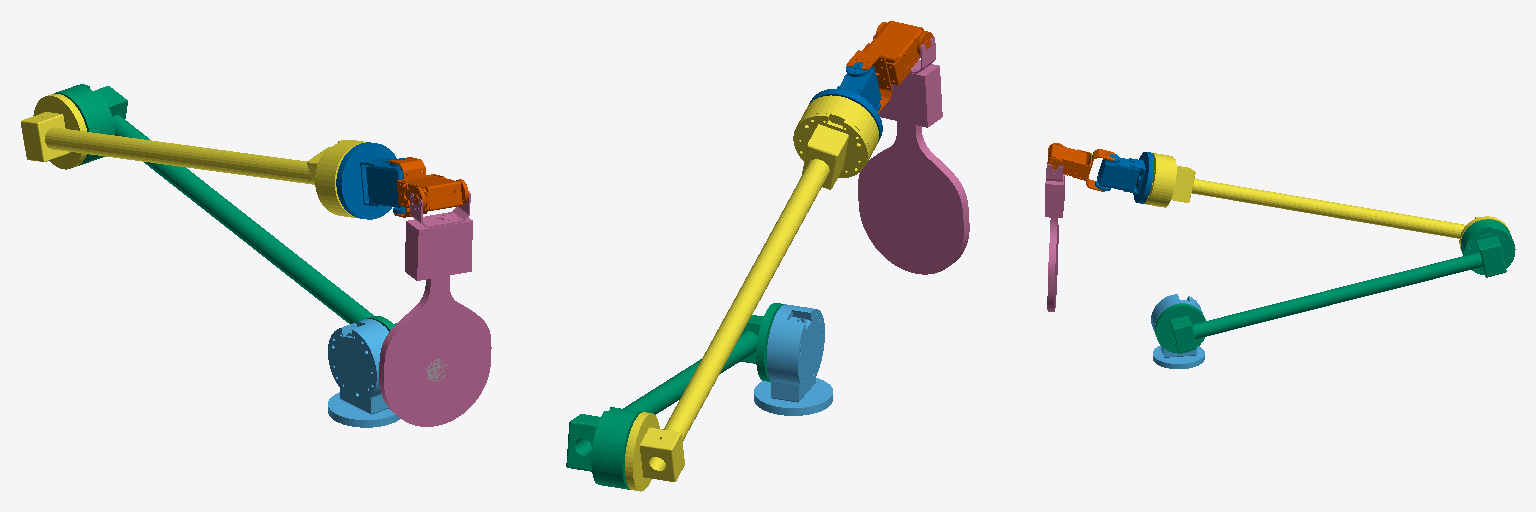
robot.urdf — tennis_player_bot:
<?xml version="1.0" ?>
<robot name="tennis_player_bot">

<material name="silver">
  <color rgba="0.700 0.700 0.700 1.000"/>
</material>

<link name="base_link">
  <inertial>
    <origin xyz="0.0032512986429543357 0.00020816639070417385 0.020789507513805882" rpy="0 0 0"/>
    <mass value="1.745901748133326"/>
    <inertia ixx="0.0011956848580423891" iyy="0.0011467821826484145" izz="0.0018948839982281653" ixy="-1.3515159114245922e-05" iyz="3.408751819674677e-06" ixz="-1.3187187417668591e-05"/>
  </inertial>
  <visual>
    <origin xyz="0 0 0" rpy="0 0 0"/>
    <geometry>
      <mesh filename="meshes/base_link.stl" scale="0.001 0.001 0.001"/>
    </geometry>
    <material name="silver"/>
    <material/>
  </visual>
  <collision>
    <origin xyz="0 0 0" rpy="0 0 0"/>
    <geometry>
      <mesh filename="meshes/base_link.stl" scale="0.001 0.001 0.001"/>
    </geometry>
  </collision>
</link>

<link name="link11">
  <inertial>
    <origin xyz="-0.0007496042612608893 -0.0003450000512975077 0.0506780692966114" rpy="0 0 0"/>
    <mass value="2.466802512638024"/>
    <inertia ixx="0.0040481047604247755" iyy="0.0032971733819744525" izz="0.0018405145912772296" ixy="0.00012848963394801227" iyz="2.5695094292537527e-05" ixz="1.810660767914327e-05"/>
  </inertial>
  <visual>
    <origin xyz="-0.004 -0.0 -0.0415" rpy="0 0 0"/>
    <geometry>
      <mesh filename="meshes/link11.stl" scale="0.001 0.001 0.001"/>
    </geometry>
    <material name="silver"/>
    <material/>
  </visual>
  <collision>
    <origin xyz="-0.004 -0.0 -0.0415" rpy="0 0 0"/>
    <geometry>
      <mesh filename="meshes/link11.stl" scale="0.001 0.001 0.001"/>
    </geometry>
  </collision>
</link>

<link name="link21">
  <inertial>
    <origin xyz="-0.05274635772139816 0.36565424086879056 0.07219767724014502" rpy="0 0 0"/>
    <mass value="4.18904362063526"/>
    <inertia ixx="0.23849012204239617" iyy="0.022147013255569364" izz="0.23943346179668612" ixy="0.04725189342993831" iyz="-0.045150824234903075" ixz="0.009432202370029365"/>
  </inertial>
  <visual>
    <origin xyz="-0.023044 -0.003201 -0.110417" rpy="0 0 0"/>
    <geometry>
      <mesh filename="meshes/link21.stl" scale="0.001 0.001 0.001"/>
    </geometry>
    <material name="silver"/>
    <material/>
  </visual>
  <collision>
    <origin xyz="-0.023044 -0.003201 -0.110417" rpy="0 0 0"/>
    <geometry>
      <mesh filename="meshes/link21.stl" scale="0.001 0.001 0.001"/>
    </geometry>
  </collision>
</link>

<link name="link31">
  <inertial>
    <origin xyz="0.037676355295301237 -0.3790942096583749 0.09993796143896319" rpy="0 0 0"/>
    <mass value="4.1731758749862395"/>
    <inertia ixx="0.268564329913324" iyy="0.02624821743989647" izz="0.2565863142198408" ixy="0.037776002486565104" iyz="0.06591173346759693" ixz="-0.010020545727296395"/>
  </inertial>
  <visual>
    <origin xyz="0.101203 -0.542968 -0.218674" rpy="0 0 0"/>
    <geometry>
      <mesh filename="meshes/link31.stl" scale="0.001 0.001 0.001"/>
    </geometry>
    <material name="silver"/>
    <material/>
  </visual>
  <collision>
    <origin xyz="0.101203 -0.542968 -0.218674" rpy="0 0 0"/>
    <geometry>
      <mesh filename="meshes/link31.stl" scale="0.001 0.001 0.001"/>
    </geometry>
  </collision>
</link>

<link name="link41">
  <inertial>
    <origin xyz="0.00471564668433672 -0.02732509003557252 0.007657759398025155" rpy="0 0 0"/>
    <mass value="1.0430025260758924"/>
    <inertia ixx="0.0012605823289593698" iyy="0.0008177564199379483" izz="0.001125109998628332" ixy="7.541579629199643e-05" iyz="9.667262457412756e-05" ixz="-2.8476751138858947e-05"/>
  </inertial>
  <visual>
    <origin xyz="0.02881 0.057138 -0.377644" rpy="0 0 0"/>
    <geometry>
      <mesh filename="meshes/link41.stl" scale="0.001 0.001 0.001"/>
    </geometry>
    <material name="silver"/>
    <material/>
  </visual>
  <collision>
    <origin xyz="0.02881 0.057138 -0.377644" rpy="0 0 0"/>
    <geometry>
      <mesh filename="meshes/link41.stl" scale="0.001 0.001 0.001"/>
    </geometry>
  </collision>
</link>

<link name="link51">
  <inertial>
    <origin xyz="-0.004527161069972353 -0.07570016570955497 -0.013329447088193724" rpy="0 0 0"/>
    <mass value="0.5913059427072911"/>
    <inertia ixx="0.0004863955743631687" iyy="0.00028340326725498355" izz="0.0005545748428425479" ixy="-6.976199802226531e-06" iyz="8.034607593396942e-05" ixz="6.246198123573653e-06"/>
  </inertial>
  <visual>
    <origin xyz="0.015274 0.117131 -0.427156" rpy="0 0 0"/>
    <geometry>
      <mesh filename="meshes/link51.stl" scale="0.001 0.001 0.001"/>
    </geometry>
    <material name="silver"/>
    <material/>
  </visual>
  <collision>
    <origin xyz="0.015274 0.117131 -0.427156" rpy="0 0 0"/>
    <geometry>
      <mesh filename="meshes/link51.stl" scale="0.001 0.001 0.001"/>
    </geometry>
  </collision>
</link>

<link name="link61">
  <inertial>
    <origin xyz="0.026167147591899243 -0.0049238598741725426 -0.15456446509579097" rpy="0 0 0"/>
    <mass value="3.2230966737650197"/>
    <inertia ixx="0.0215123931155069" iyy="0.02450343937986313" izz="0.0033008247029437388" ixy="0.00010779727936325104" iyz="-0.00048659607540865735" ixz="-0.0008396729745024298"/>
  </inertial>
  <visual>
    <origin xyz="0.052299 0.216045 -0.422105" rpy="0 0 0"/>
    <geometry>
      <mesh filename="meshes/link61.stl" scale="0.001 0.001 0.001"/>
    </geometry>
    <material name="silver"/>
    <material/>
  </visual>
  <collision>
    <origin xyz="0.052299 0.216045 -0.422105" rpy="0 0 0"/>
    <geometry>
      <mesh filename="meshes/link61.stl" scale="0.001 0.001 0.001"/>
    </geometry>
  </collision>
</link>

<link name="paddle_center1">
  <inertial>
    <origin xyz="0.00010667337392668633 0.0024966191096613133 -6.119353965117202e-05" rpy="0 0 0"/>
    <mass value="0.027744190122014827"/>
    <inertia ixx="1.6211466780931098e-06" iyy="3.1175767253304332e-06" izz="1.619320166204542e-06" ixy="6.403982343001309e-08" iyz="-3.6916867814876936e-08" ixz="-1.5769769806943564e-09"/>
  </inertial>
  <visual>
    <origin xyz="0.029682 0.228834 -0.196078" rpy="0 0 0"/>
    <geometry>
      <mesh filename="meshes/paddle_center1.stl" scale="0.001 0.001 0.001"/>
    </geometry>
    <material name="silver"/>
    <material/>
  </visual>
  <collision>
    <origin xyz="0.029682 0.228834 -0.196078" rpy="0 0 0"/>
    <geometry>
      <mesh filename="meshes/paddle_center1.stl" scale="0.001 0.001 0.001"/>
    </geometry>
  </collision>
</link>

<joint name="joint0" type="continuous">
  <origin xyz="0.004 0.0 0.0415" rpy="0 0 0"/>
  <parent link="base_link"/>
  <child link="link11"/>
  <axis xyz="-0.0 0.0 1.0"/>
</joint>
<transmission name="joint0_tran">
  <type>transmission_interface/SimpleTransmission</type>
  <joint name="joint0">
    <hardwareInterface>PositionJointInterface</hardwareInterface>
  </joint>
  <actuator name="joint0_actr">
    <hardwareInterface>PositionJointInterface</hardwareInterface>
    <mechanicalReduction>1</mechanicalReduction>
  </actuator>
</transmission>

<joint name="joint1" type="continuous">
  <origin xyz="0.019044 0.003201 0.068917" rpy="0 0 0"/>
  <parent link="link11"/>
  <child link="link21"/>
  <axis xyz="0.985635 0.168891 0.0"/>
</joint>
<transmission name="joint1_tran">
  <type>transmission_interface/SimpleTransmission</type>
  <joint name="joint1">
    <hardwareInterface>PositionJointInterface</hardwareInterface>
  </joint>
  <actuator name="joint1_actr">
    <hardwareInterface>PositionJointInterface</hardwareInterface>
    <mechanicalReduction>1</mechanicalReduction>
  </actuator>
</transmission>

<joint name="joint2" type="continuous">
  <origin xyz="-0.124247 0.539767 0.108257" rpy="0 0 0"/>
  <parent link="link21"/>
  <child link="link31"/>
  <axis xyz="-0.985635 -0.168891 -0.0"/>
</joint>
<transmission name="joint2_tran">
  <type>transmission_interface/SimpleTransmission</type>
  <joint name="joint2">
    <hardwareInterface>PositionJointInterface</hardwareInterface>
  </joint>
  <actuator name="joint2_actr">
    <hardwareInterface>PositionJointInterface</hardwareInterface>
    <mechanicalReduction>1</mechanicalReduction>
  </actuator>
</transmission>

<joint name="joint3" type="continuous">
  <origin xyz="0.072393 -0.600106 0.15897" rpy="0 0 0"/>
  <parent link="link31"/>
  <child link="link41"/>
  <axis xyz="0.163324 -0.953144 0.254642"/>
</joint>
<transmission name="joint3_tran">
  <type>transmission_interface/SimpleTransmission</type>
  <joint name="joint3">
    <hardwareInterface>PositionJointInterface</hardwareInterface>
  </joint>
  <actuator name="joint3_actr">
    <hardwareInterface>PositionJointInterface</hardwareInterface>
    <mechanicalReduction>1</mechanicalReduction>
  </actuator>
</transmission>

<joint name="joint4" type="continuous">
  <origin xyz="0.013536 -0.059993 0.049512" rpy="0 0 0"/>
  <parent link="link41"/>
  <child link="link51"/>
  <axis xyz="-0.054839 -0.266479 -0.962279"/>
</joint>
<transmission name="joint4_tran">
  <type>transmission_interface/SimpleTransmission</type>
  <joint name="joint4">
    <hardwareInterface>PositionJointInterface</hardwareInterface>
  </joint>
  <actuator name="joint4_actr">
    <hardwareInterface>PositionJointInterface</hardwareInterface>
    <mechanicalReduction>1</mechanicalReduction>
  </actuator>
</transmission>

<joint name="joint5" type="continuous">
  <origin xyz="-0.037025 -0.098914 -0.005051" rpy="0 0 0"/>
  <parent link="link51"/>
  <child link="link61"/>
  <axis xyz="0.99804 -0.043736 -0.044766"/>
</joint>
<transmission name="joint5_tran">
  <type>transmission_interface/SimpleTransmission</type>
  <joint name="joint5">
    <hardwareInterface>PositionJointInterface</hardwareInterface>
  </joint>
  <actuator name="joint5_actr">
    <hardwareInterface>PositionJointInterface</hardwareInterface>
    <mechanicalReduction>1</mechanicalReduction>
  </actuator>
</transmission>

<joint name="Rigid_9" type="fixed">
  <origin xyz="0.022617 -0.012789 -0.226027" rpy="0 0 0"/>
  <parent link="link61"/>
  <child link="paddle_center1"/>
</joint>

</robot>

--- What the picture shows (computed from the rendered views, not written in the file) ---
Views: 3 orthographic renders of the robot side by side, from view 1: azimuth 30°, elevation 25°; view 2: azimuth 150°, elevation 25°; view 3: azimuth 270°, elevation 25°.
Model tennis_player_bot with 8 links and 7 joints (6 continuous, 1 fixed), rooted at base_link, posed all joints at 0.
Visible links, largest first — view 1: link61, link31, link21, link11, link41, link51; view 2: link31, link61, link21, link11, link51, link41; view 3: link21, link31, link41, link61, link51, link11.
Boxes of the visible links, <box> form: link61: <box>379,191,491,426</box>; link31: <box>21,94,365,218</box>; link21: <box>54,84,396,331</box>; link11: <box>328,319,400,427</box>; link41: <box>336,142,409,219</box>; link51: <box>389,157,468,217</box>; link31: <box>625,95,878,491</box>; link61: <box>858,34,969,274</box>; link21: <box>566,303,783,489</box>; link11: <box>754,304,832,415</box>; link51: <box>846,21,933,113</box>; link41: <box>809,62,882,141</box>; link21: <box>1155,219,1515,353</box>; link31: <box>1144,153,1508,248</box>; link41: <box>1095,152,1153,203</box>; link61: <box>1045,154,1064,311</box>; link51: <box>1047,143,1114,191</box>; link11: <box>1151,294,1204,368</box>.
Bounding box of the posed robot: 0.2297 × 0.8328 × 0.3971 m (x, y, z).
7 mesh visuals loaded from 8 distinct referenced files (7 binary STL); not drawn: 1 (reference not matched to a file when rendering).